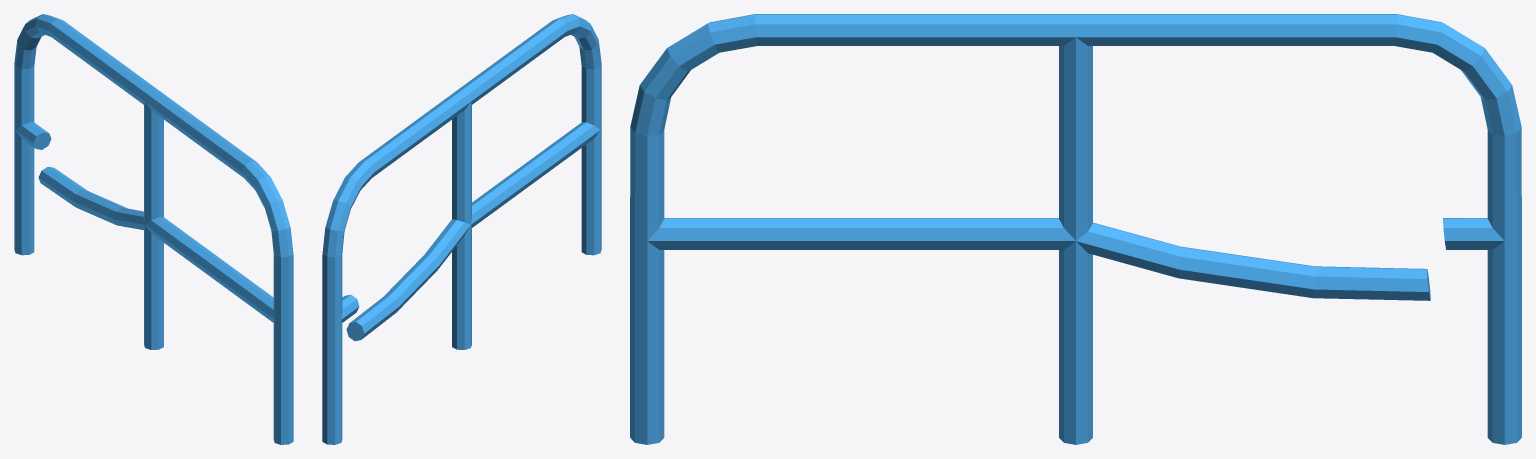
Rendered from Pipe_Barier_2_12_3.fbx.
3 renders of one model, left to right at view 1: azimuth 30°, elevation 25°; view 2: azimuth 150°, elevation 25°; view 3: azimuth 270°, elevation 25°, orthographic. The views are drawn at different scales.
Visible parts, largest first — view 1: Fence_2_3; view 2: Fence_2_3; view 3: Fence_2_3.
Part boxes in pixels (<box>): Fence_2_3: <box>14,14,293,444</box>; Fence_2_3: <box>322,14,601,444</box>; Fence_2_3: <box>630,14,1521,444</box>.
Size of the model in its own units: 8 by 109 by 209.
